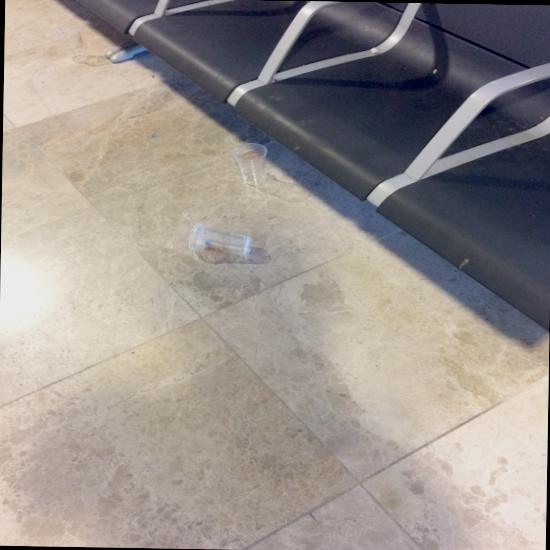Disposable plastic cup: (188, 223, 252, 254), (233, 143, 267, 185)
